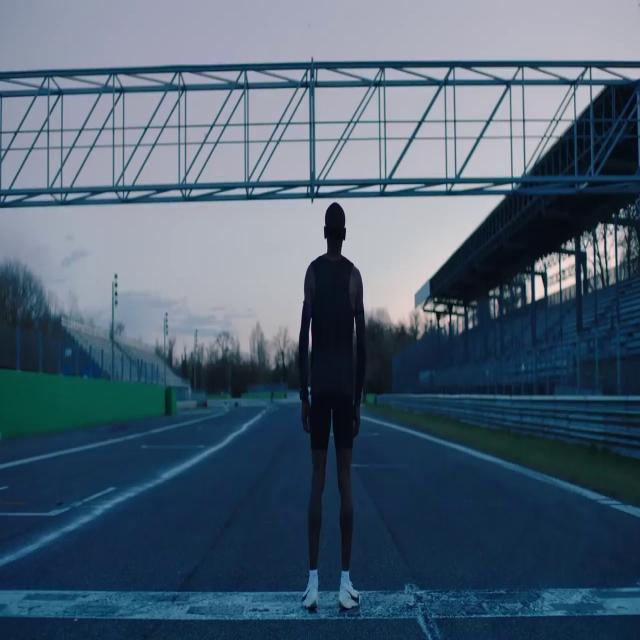standing: (298, 199, 367, 615)
